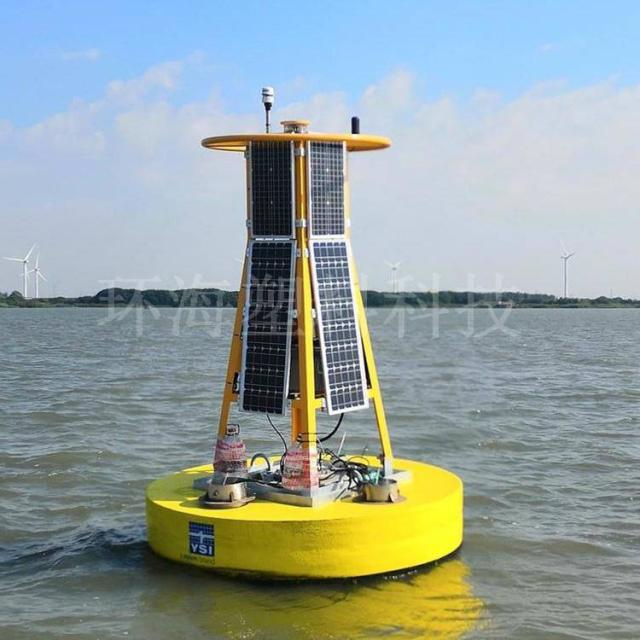buoy: (142, 85, 468, 575)
